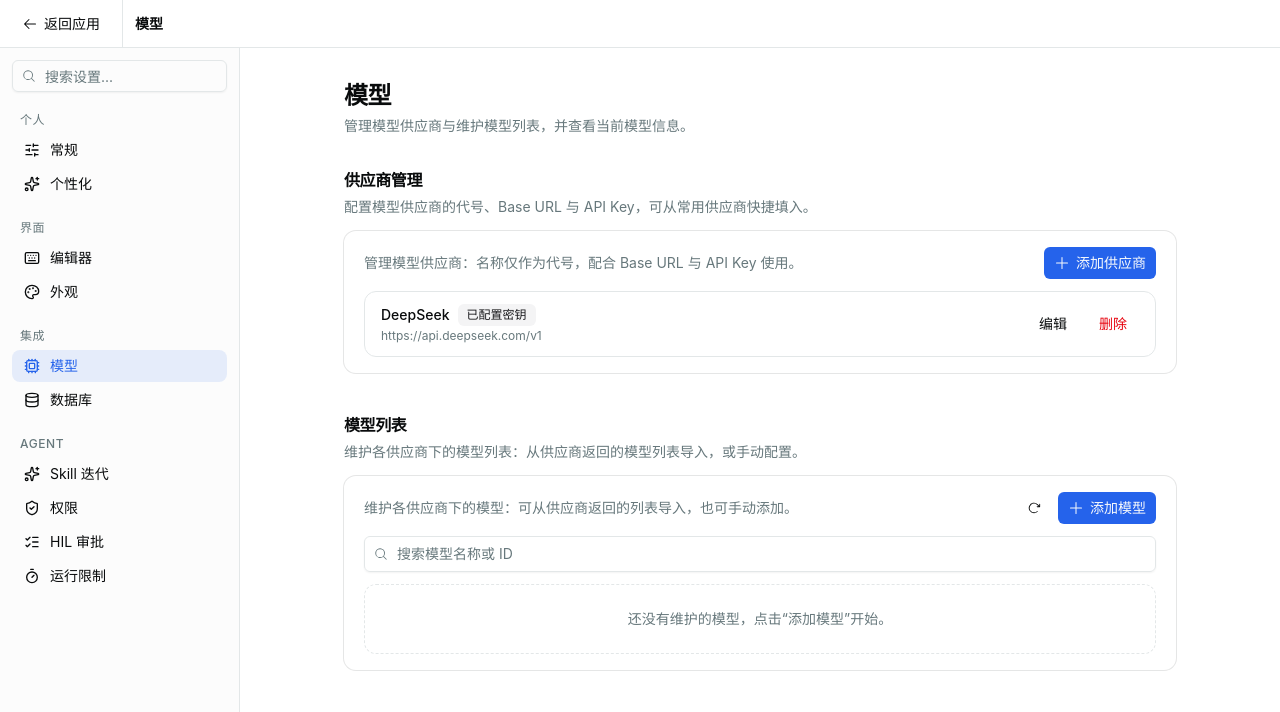
Scenario: SettingsPanel model registry › shows an empty state when the search has no matches
Expected: the text "还没有维护的模型，点击“添加模型”开始。" is shown, [364, 584, 1156, 654]
Type "zzz" into the field labelled "搜索模型".
click(760, 554); type("zzz")  # box [364, 536, 1156, 572]
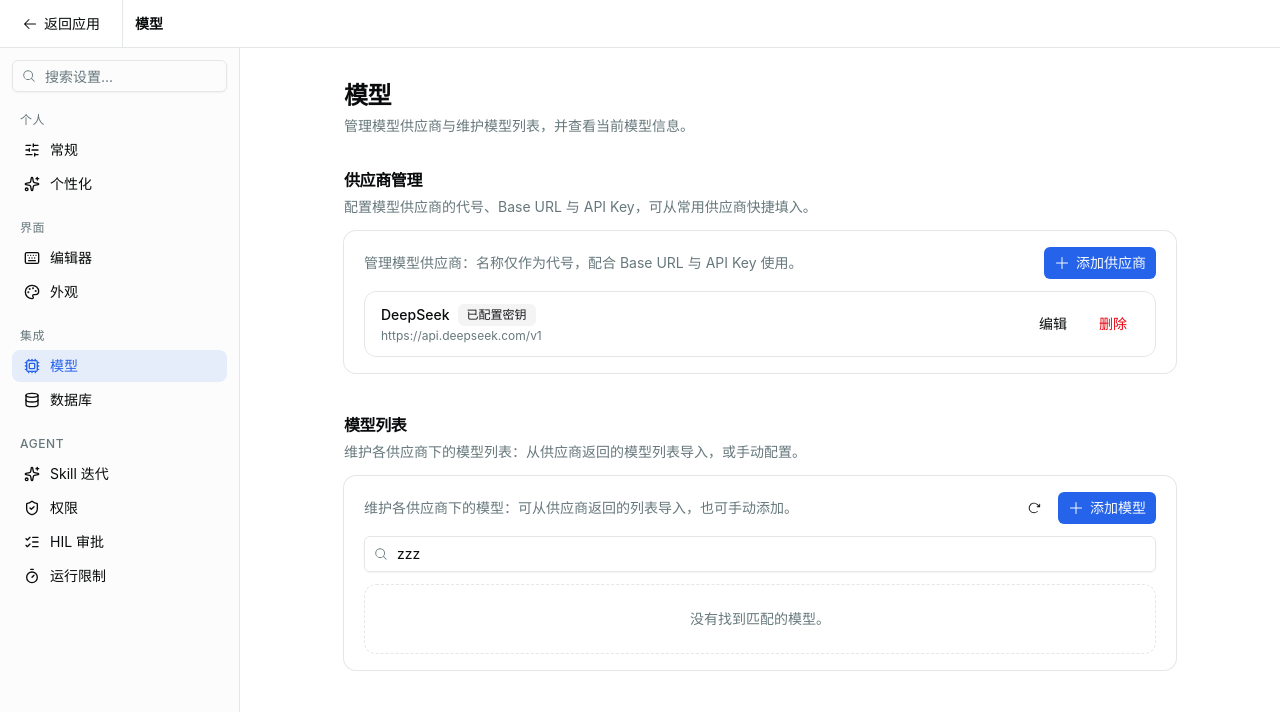
Now the text "没有找到匹配的模型。" is shown, box [364, 584, 1156, 654]
